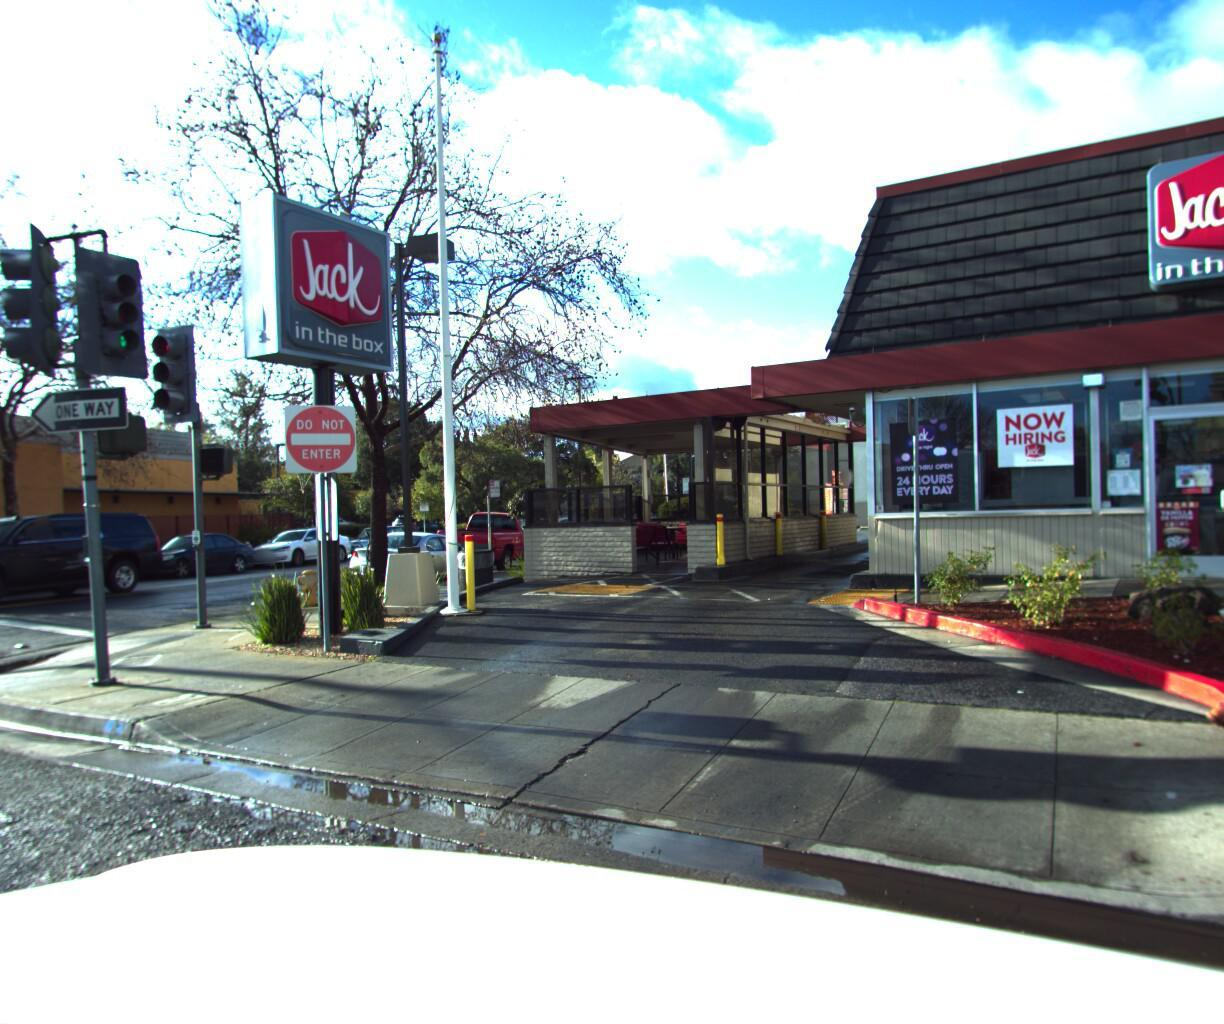car: (0, 507, 172, 614), (339, 521, 486, 591), (431, 502, 556, 573), (117, 524, 256, 581), (235, 517, 358, 566), (335, 518, 419, 556), (387, 510, 445, 536)
